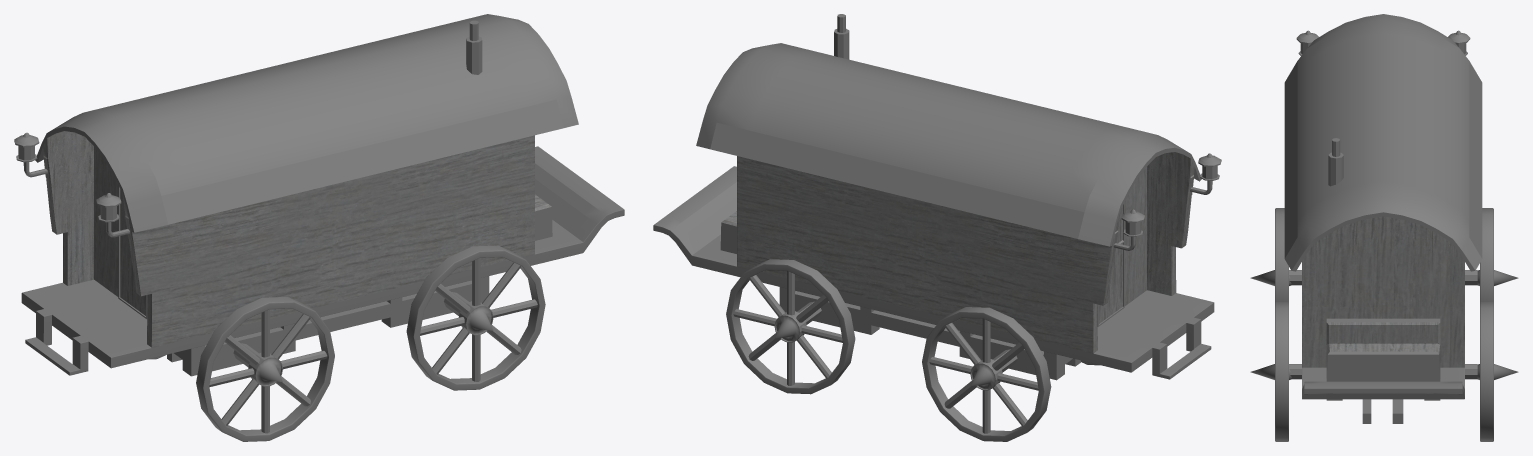
File: WagonFinal.obj
The picture shows the model from 3 angles, left to right: view 1: azimuth 30°, elevation 25°; view 2: azimuth 150°, elevation 25°; view 3: azimuth 270°, elevation 25°; orthographic projection. The views are drawn at different scales.
Visible parts, largest first — view 1: pCylinder19; view 2: pCylinder19; view 3: pCylinder19.
Boxes of the visible parts, x1,y1,x2,y2 form: pCylinder19: (14, 14, 624, 441); pCylinder19: (653, 14, 1221, 441); pCylinder19: (1250, 14, 1518, 441).
Bounding box in the file's own units: 62.16 × 37.41 × 29.6.
Materials: 6 (1 with a texture image).
